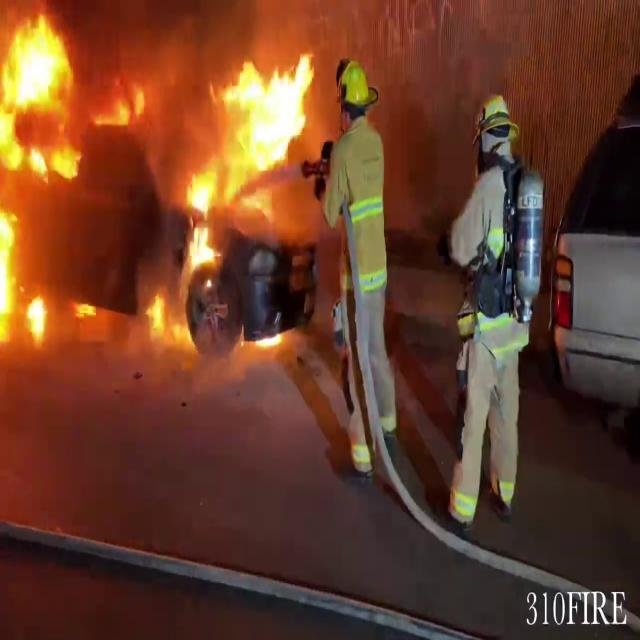Fire: (120, 2, 318, 360), (0, 7, 80, 349)
